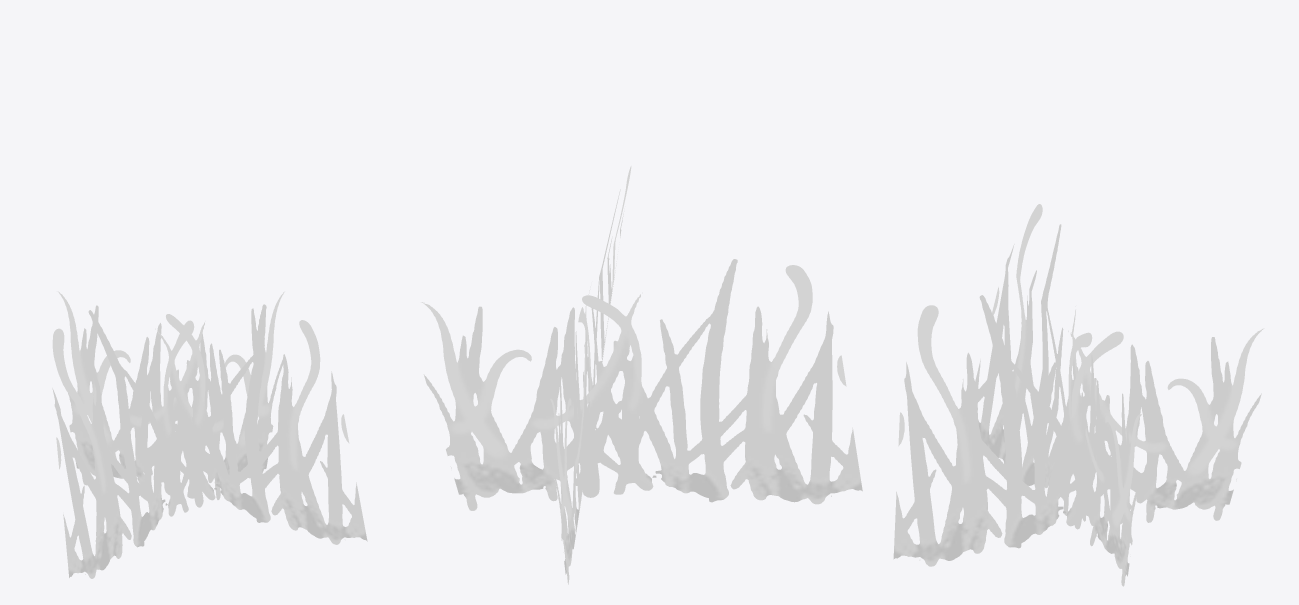
Rendered from FlowerMeadow4.fbx.
3 views of the same model, side by side, from view 1: azimuth 30°, elevation 25°; view 2: azimuth 150°, elevation 25°; view 3: azimuth 270°, elevation 25° (orthographic). The views are drawn at different scales.
Visible parts, largest first — view 1: FlowerMeadow4; view 2: FlowerMeadow4; view 3: FlowerMeadow4.
Part boxes in pixels (x1,y1,x2,y2): FlowerMeadow4: [52, 291, 367, 578]; FlowerMeadow4: [421, 166, 862, 584]; FlowerMeadow4: [893, 204, 1264, 586].
Size of the model in its own units: 32.34 by 44.65 by 32.91.
